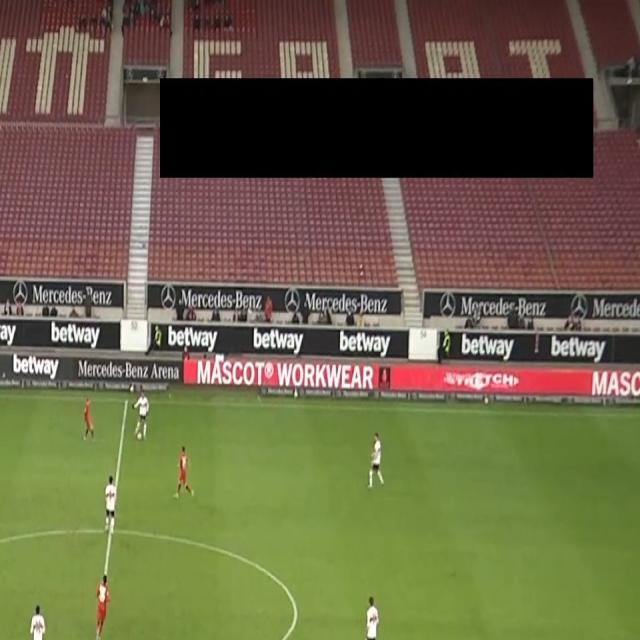ball: (136, 430, 143, 442)
